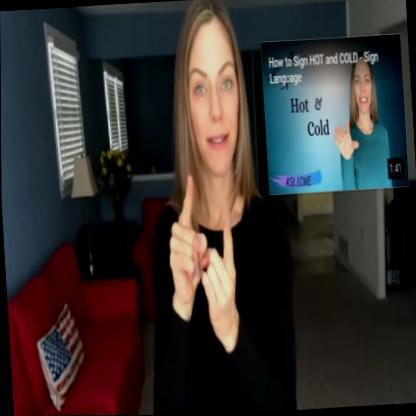NiceToMeetYou: (129, 0, 299, 415)
